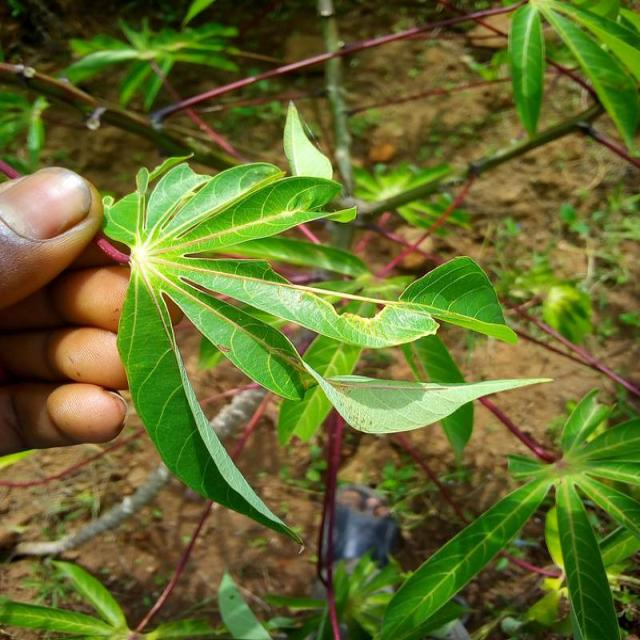cassava leaf: (96, 99, 551, 546)
